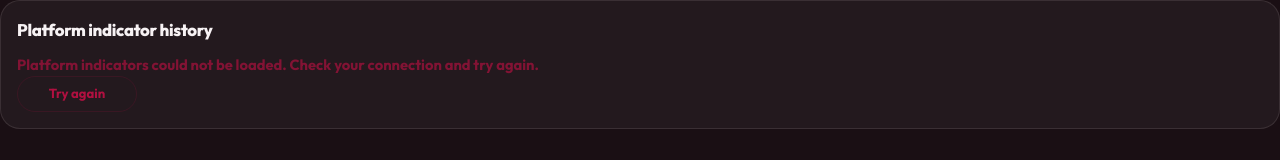
Test: PlatformIndicatorCharts › retries the request and shows the empty state only after a successful response
Click the button "Try again" at x=77, y=94, box [17, 76, 137, 112]
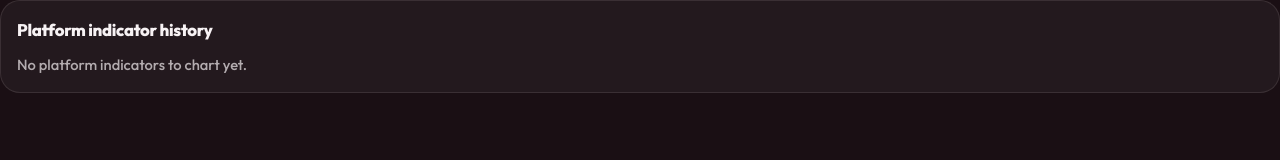
Expected: the text "No platform indicators to chart yet." is shown, [17, 55, 247, 74]
